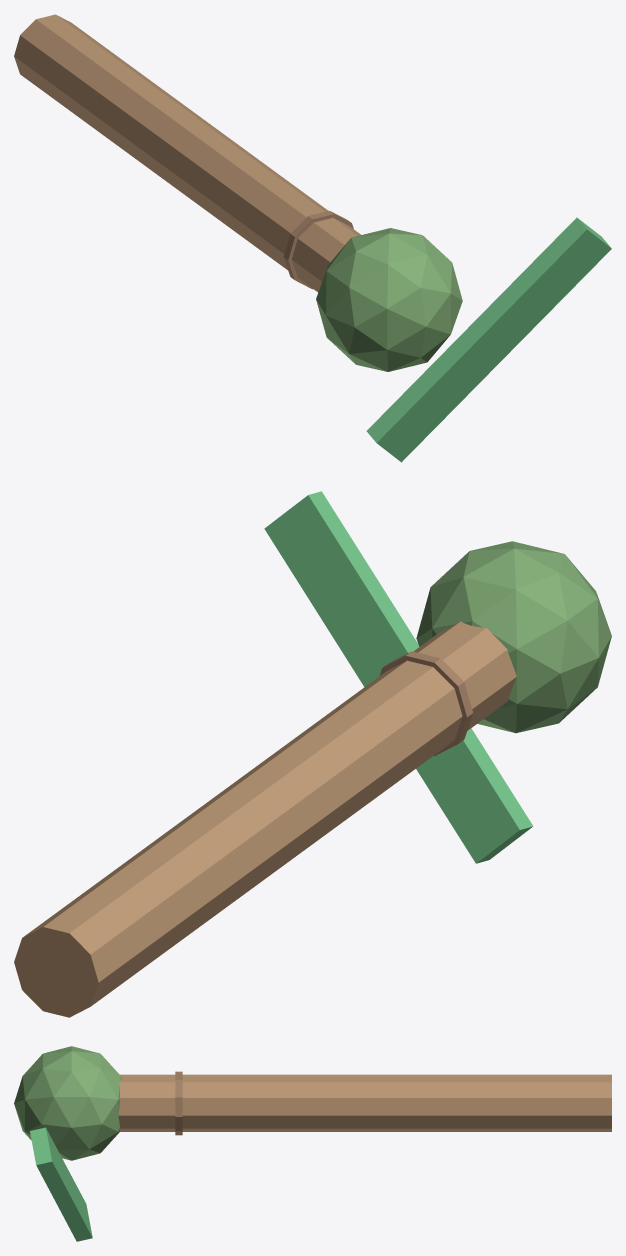
Rendered from low_poly_palm_tree.glb.
3 renders of one model, top to bottom at view 1: azimuth 30°, elevation 25°; view 2: azimuth 150°, elevation 25°; view 3: azimuth 270°, elevation 25°, orthographic. The views are drawn at different scales.
Visible parts, largest first — view 1: palm_trunk, palm_crown, palm_leaf, palm_trunk_ring; view 2: palm_trunk, palm_crown, palm_leaf, palm_trunk_ring; view 3: palm_trunk, palm_crown, palm_leaf, palm_trunk_ring.
Part boxes in pixels (<box>): palm_trunk: <box>14,14,360,292</box>; palm_crown: <box>316,228,462,371</box>; palm_leaf: <box>366,217,611,462</box>; palm_trunk_ring: <box>284,210,353,289</box>; palm_trunk: <box>14,621,516,1017</box>; palm_crown: <box>416,541,611,733</box>; palm_leaf: <box>264,491,533,863</box>; palm_trunk_ring: <box>379,651,472,756</box>; palm_trunk: <box>118,1074,611,1131</box>; palm_crown: <box>14,1046,121,1160</box>; palm_leaf: <box>30,1127,92,1241</box>; palm_trunk_ring: <box>175,1071,182,1135</box>.
Bounding box in the file's own units: 1.16 × 0.9891 × 2.9.
